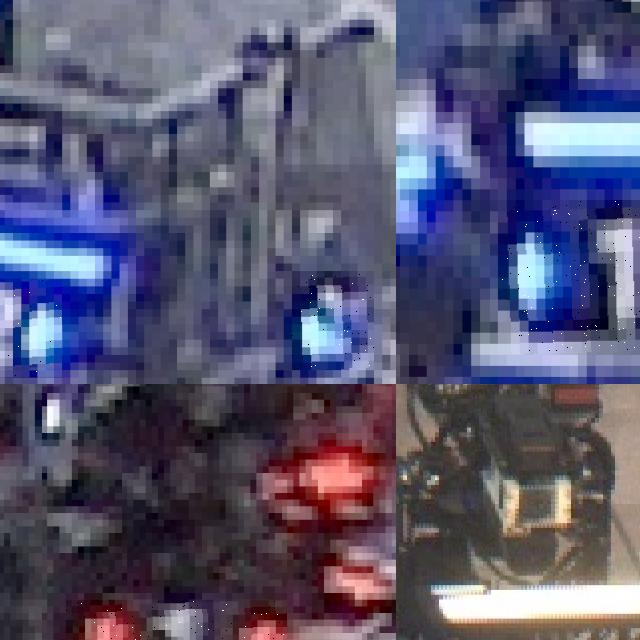B1: (498, 200, 640, 354)
B2: (292, 271, 374, 370), (0, 278, 62, 377)
R1: (65, 599, 287, 640)
